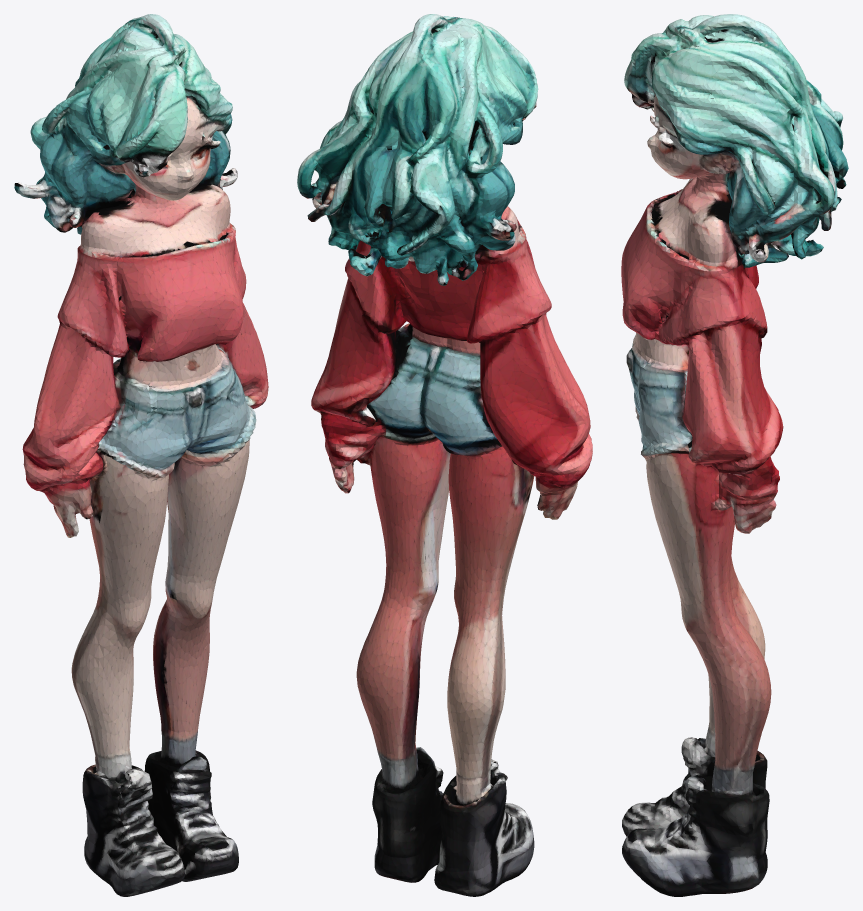
File: character_mvadapter_texturing.glb
The picture shows the model from 3 angles, left to right: view 1: azimuth 30°, elevation 25°; view 2: azimuth 150°, elevation 25°; view 3: azimuth 270°, elevation 25°; orthographic projection. The views are drawn at different scales.
Parts seen in each view (by area): view 1: mvadapter_node_textured_model; view 2: mvadapter_node_textured_model; view 3: mvadapter_node_textured_model.
Part boxes in pixels (x1,y1,x2,y2): mvadapter_node_textured_model: [14, 14, 268, 896]; mvadapter_node_textured_model: [297, 14, 592, 896]; mvadapter_node_textured_model: [621, 14, 848, 896].
Size of the model in its own units: 0.5996 by 1.99 by 0.4753.
1 material, 1 textured.
